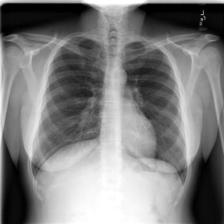normal: (25, 32, 194, 188)
